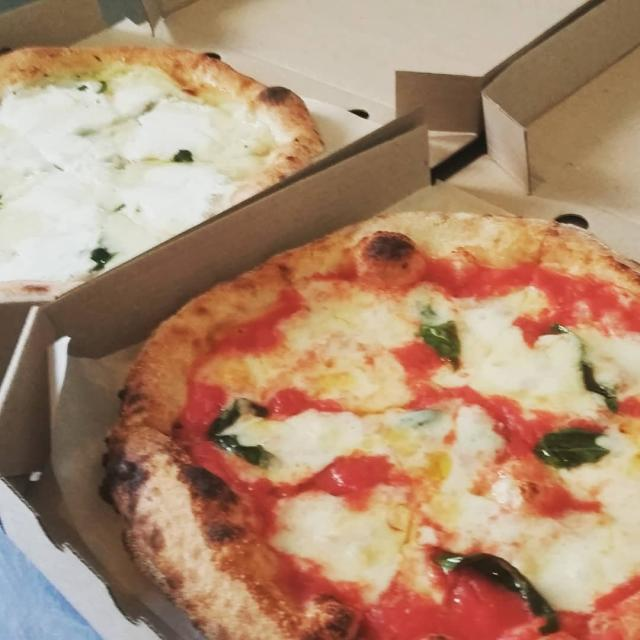basil: (422, 544, 576, 637), (550, 317, 622, 415), (202, 391, 276, 472), (524, 424, 614, 473), (412, 298, 470, 374)
pizza: (103, 212, 640, 640)
